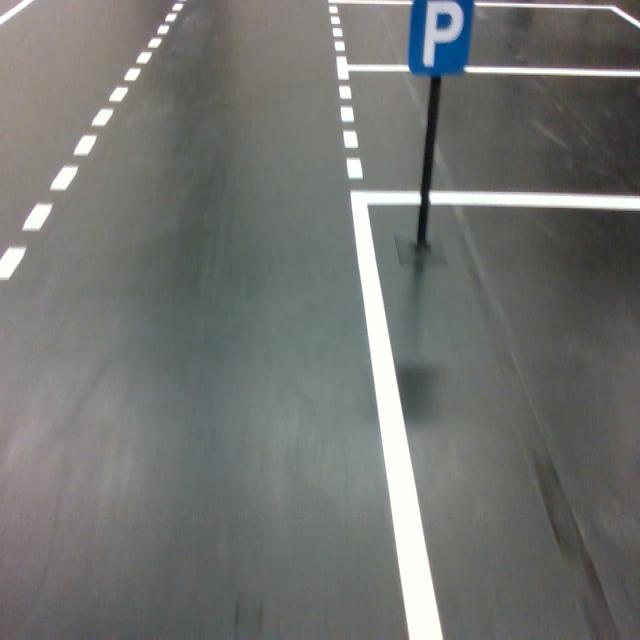parking-sign: (407, 0, 474, 76)
